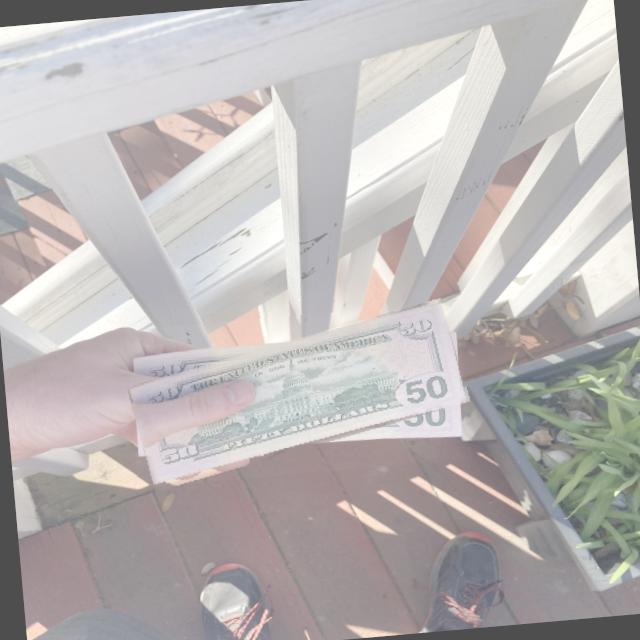fifty: (127, 301, 468, 487)
